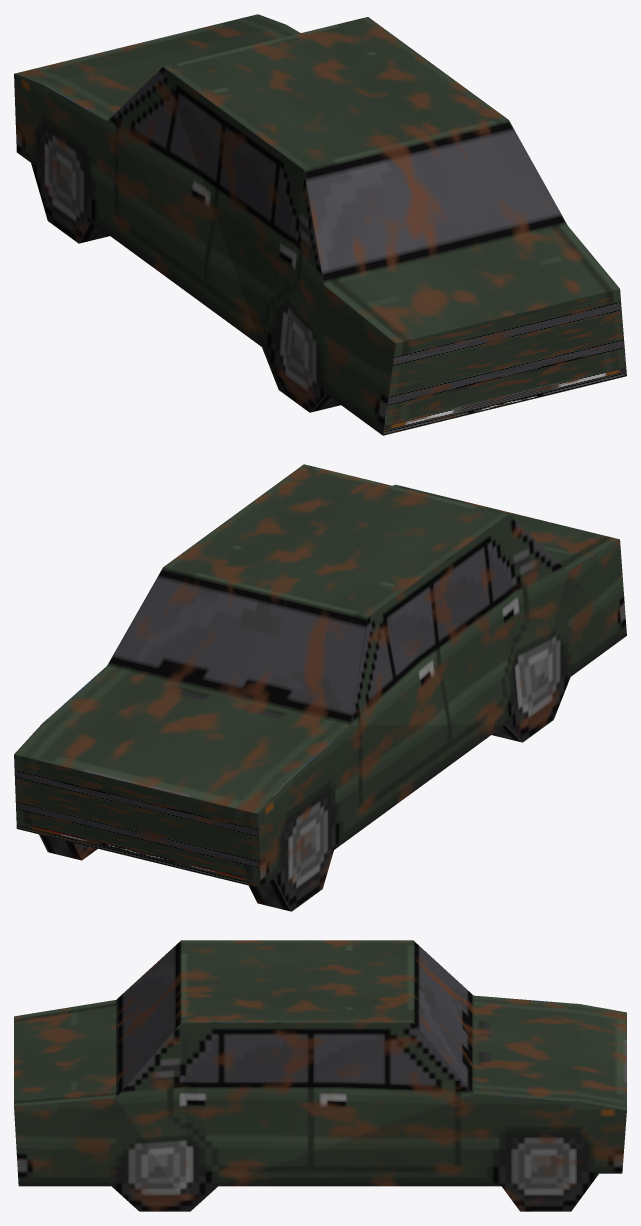
The model's file is prop_car2.glb.
3 views of the same model, one above another, from view 1: azimuth 30°, elevation 25°; view 2: azimuth 150°, elevation 25°; view 3: azimuth 270°, elevation 25° (orthographic). The views are drawn at different scales.
Visible parts, largest first — view 1: hull; view 2: hull; view 3: hull.
Boxes of the visible parts, x1,y1,x2,y2 form: hull: [14, 14, 626, 435]; hull: [14, 464, 626, 911]; hull: [14, 940, 626, 1211].
Bounding box in the file's own units: 0.8712 × 0.7492 × 2.3.
Materials: 1 (1 with a texture image).
